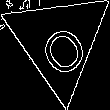O_NW: (29, 8, 89, 75)
